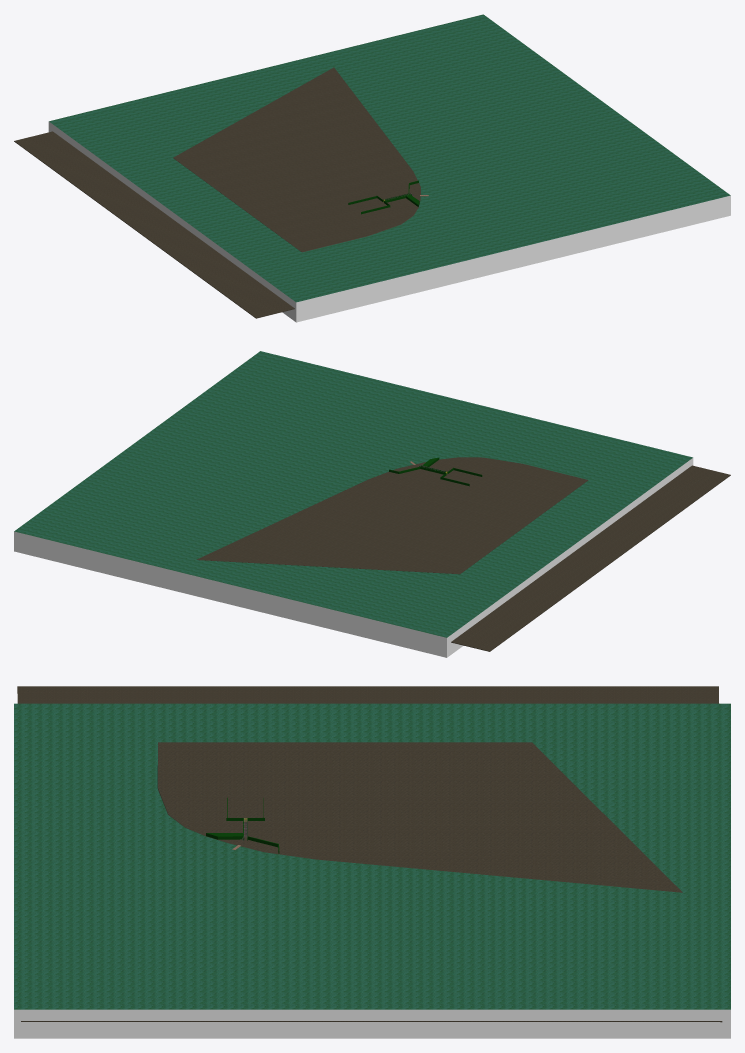
File: lvl1.obj
3 views of the same model, one above another, from view 1: azimuth 30°, elevation 25°; view 2: azimuth 150°, elevation 25°; view 3: azimuth 270°, elevation 25° (orthographic). The views are drawn at different scales.
Visible parts, largest first — view 1: entity2_brush0, entity0_brush0, entity0_brush1; view 2: entity2_brush0, entity0_brush0, entity0_brush1; view 3: entity2_brush0, entity0_brush0, entity0_brush1.
Part boxes in pixels (<box>): entity2_brush0: <box>48,14,730,322</box>; entity0_brush0: <box>173,67,420,252</box>; entity0_brush1: <box>14,131,294,318</box>; entity2_brush0: <box>14,351,693,657</box>; entity0_brush0: <box>196,457,588,574</box>; entity0_brush1: <box>451,465,730,651</box>; entity2_brush0: <box>14,703,730,1038</box>; entity0_brush0: <box>157,742,682,892</box>; entity0_brush1: <box>17,686,722,1022</box>.
Size of the model in its own units: 29600 by 1390 by 26752.
